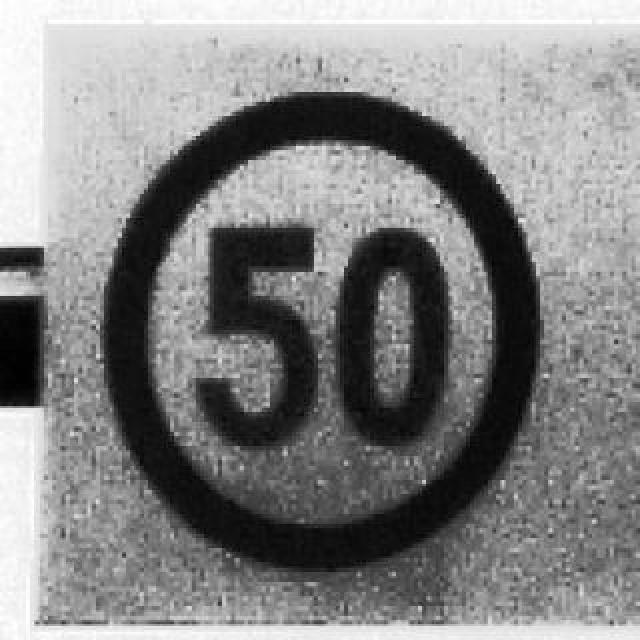50 kph: (100, 92, 536, 568)
